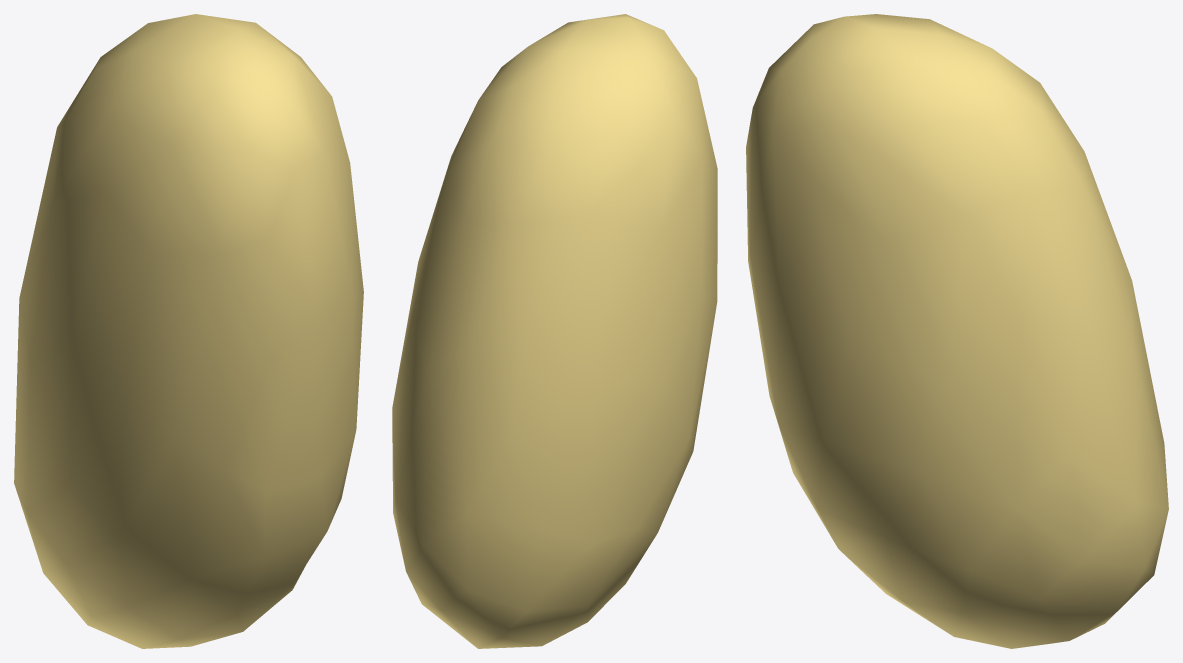
The model's file is fma73581_mm3513.glb.
3 views of the same model, side by side, from view 1: azimuth 30°, elevation 25°; view 2: azimuth 150°, elevation 25°; view 3: azimuth 270°, elevation 25° (orthographic). The views are drawn at different scales.
Parts seen in each view (by area): view 1: FMA73581_MM3513; view 2: FMA73581_MM3513; view 3: FMA73581_MM3513.
Boxes of the visible parts, x1,y1,x2,y2 form: FMA73581_MM3513: (14,14,363,648); FMA73581_MM3513: (392,14,717,648); FMA73581_MM3513: (746,14,1168,648).
Bounding box in the file's own units: 0.00131 × 0.00293 × 0.00183.
